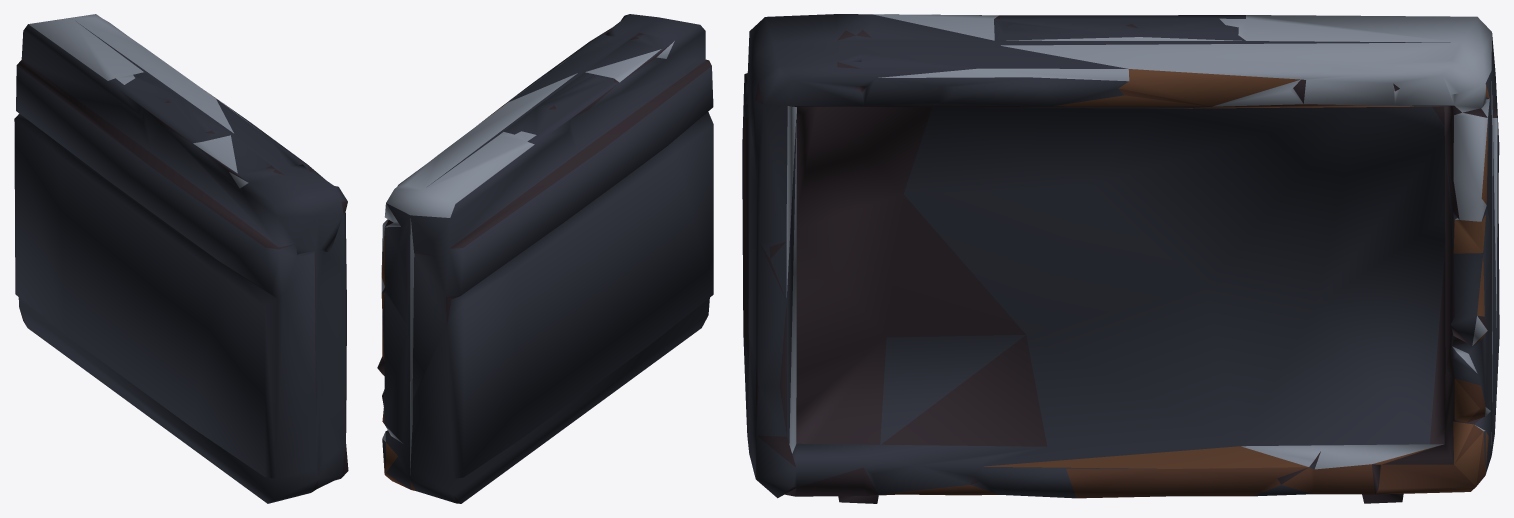
Rendered from SM_tv_flat.glb.
3 renders of one model, left to right at view 1: azimuth 30°, elevation 25°; view 2: azimuth 150°, elevation 25°; view 3: azimuth 270°, elevation 25°, orthographic. The views are drawn at different scales.
Parts seen in each view (by area): view 1: SM_tv_flat; view 2: SM_tv_flat; view 3: SM_tv_flat.
Part boxes in pixels (bbox=[...]): SM_tv_flat: bbox=[14, 14, 348, 503]; SM_tv_flat: bbox=[377, 14, 713, 503]; SM_tv_flat: bbox=[742, 14, 1499, 503].
Size of the model in its own units: 0.1754 by 0.6 by 0.8866.
1 material, 1 textured.
